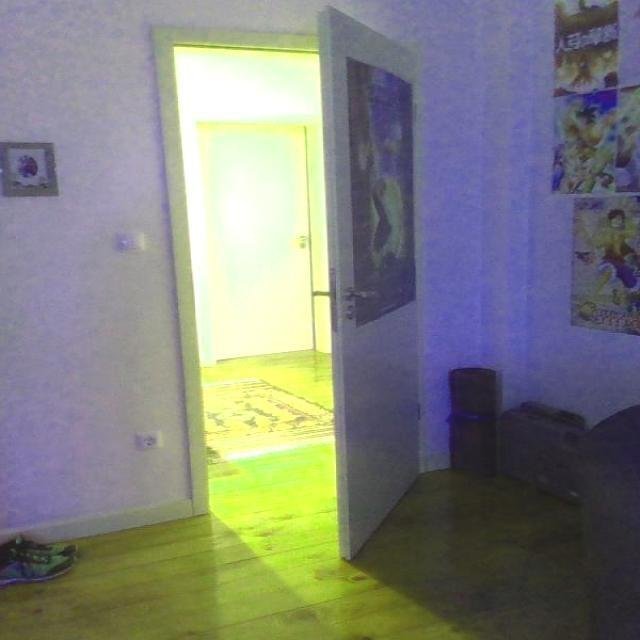door: (298, 0, 435, 569)
